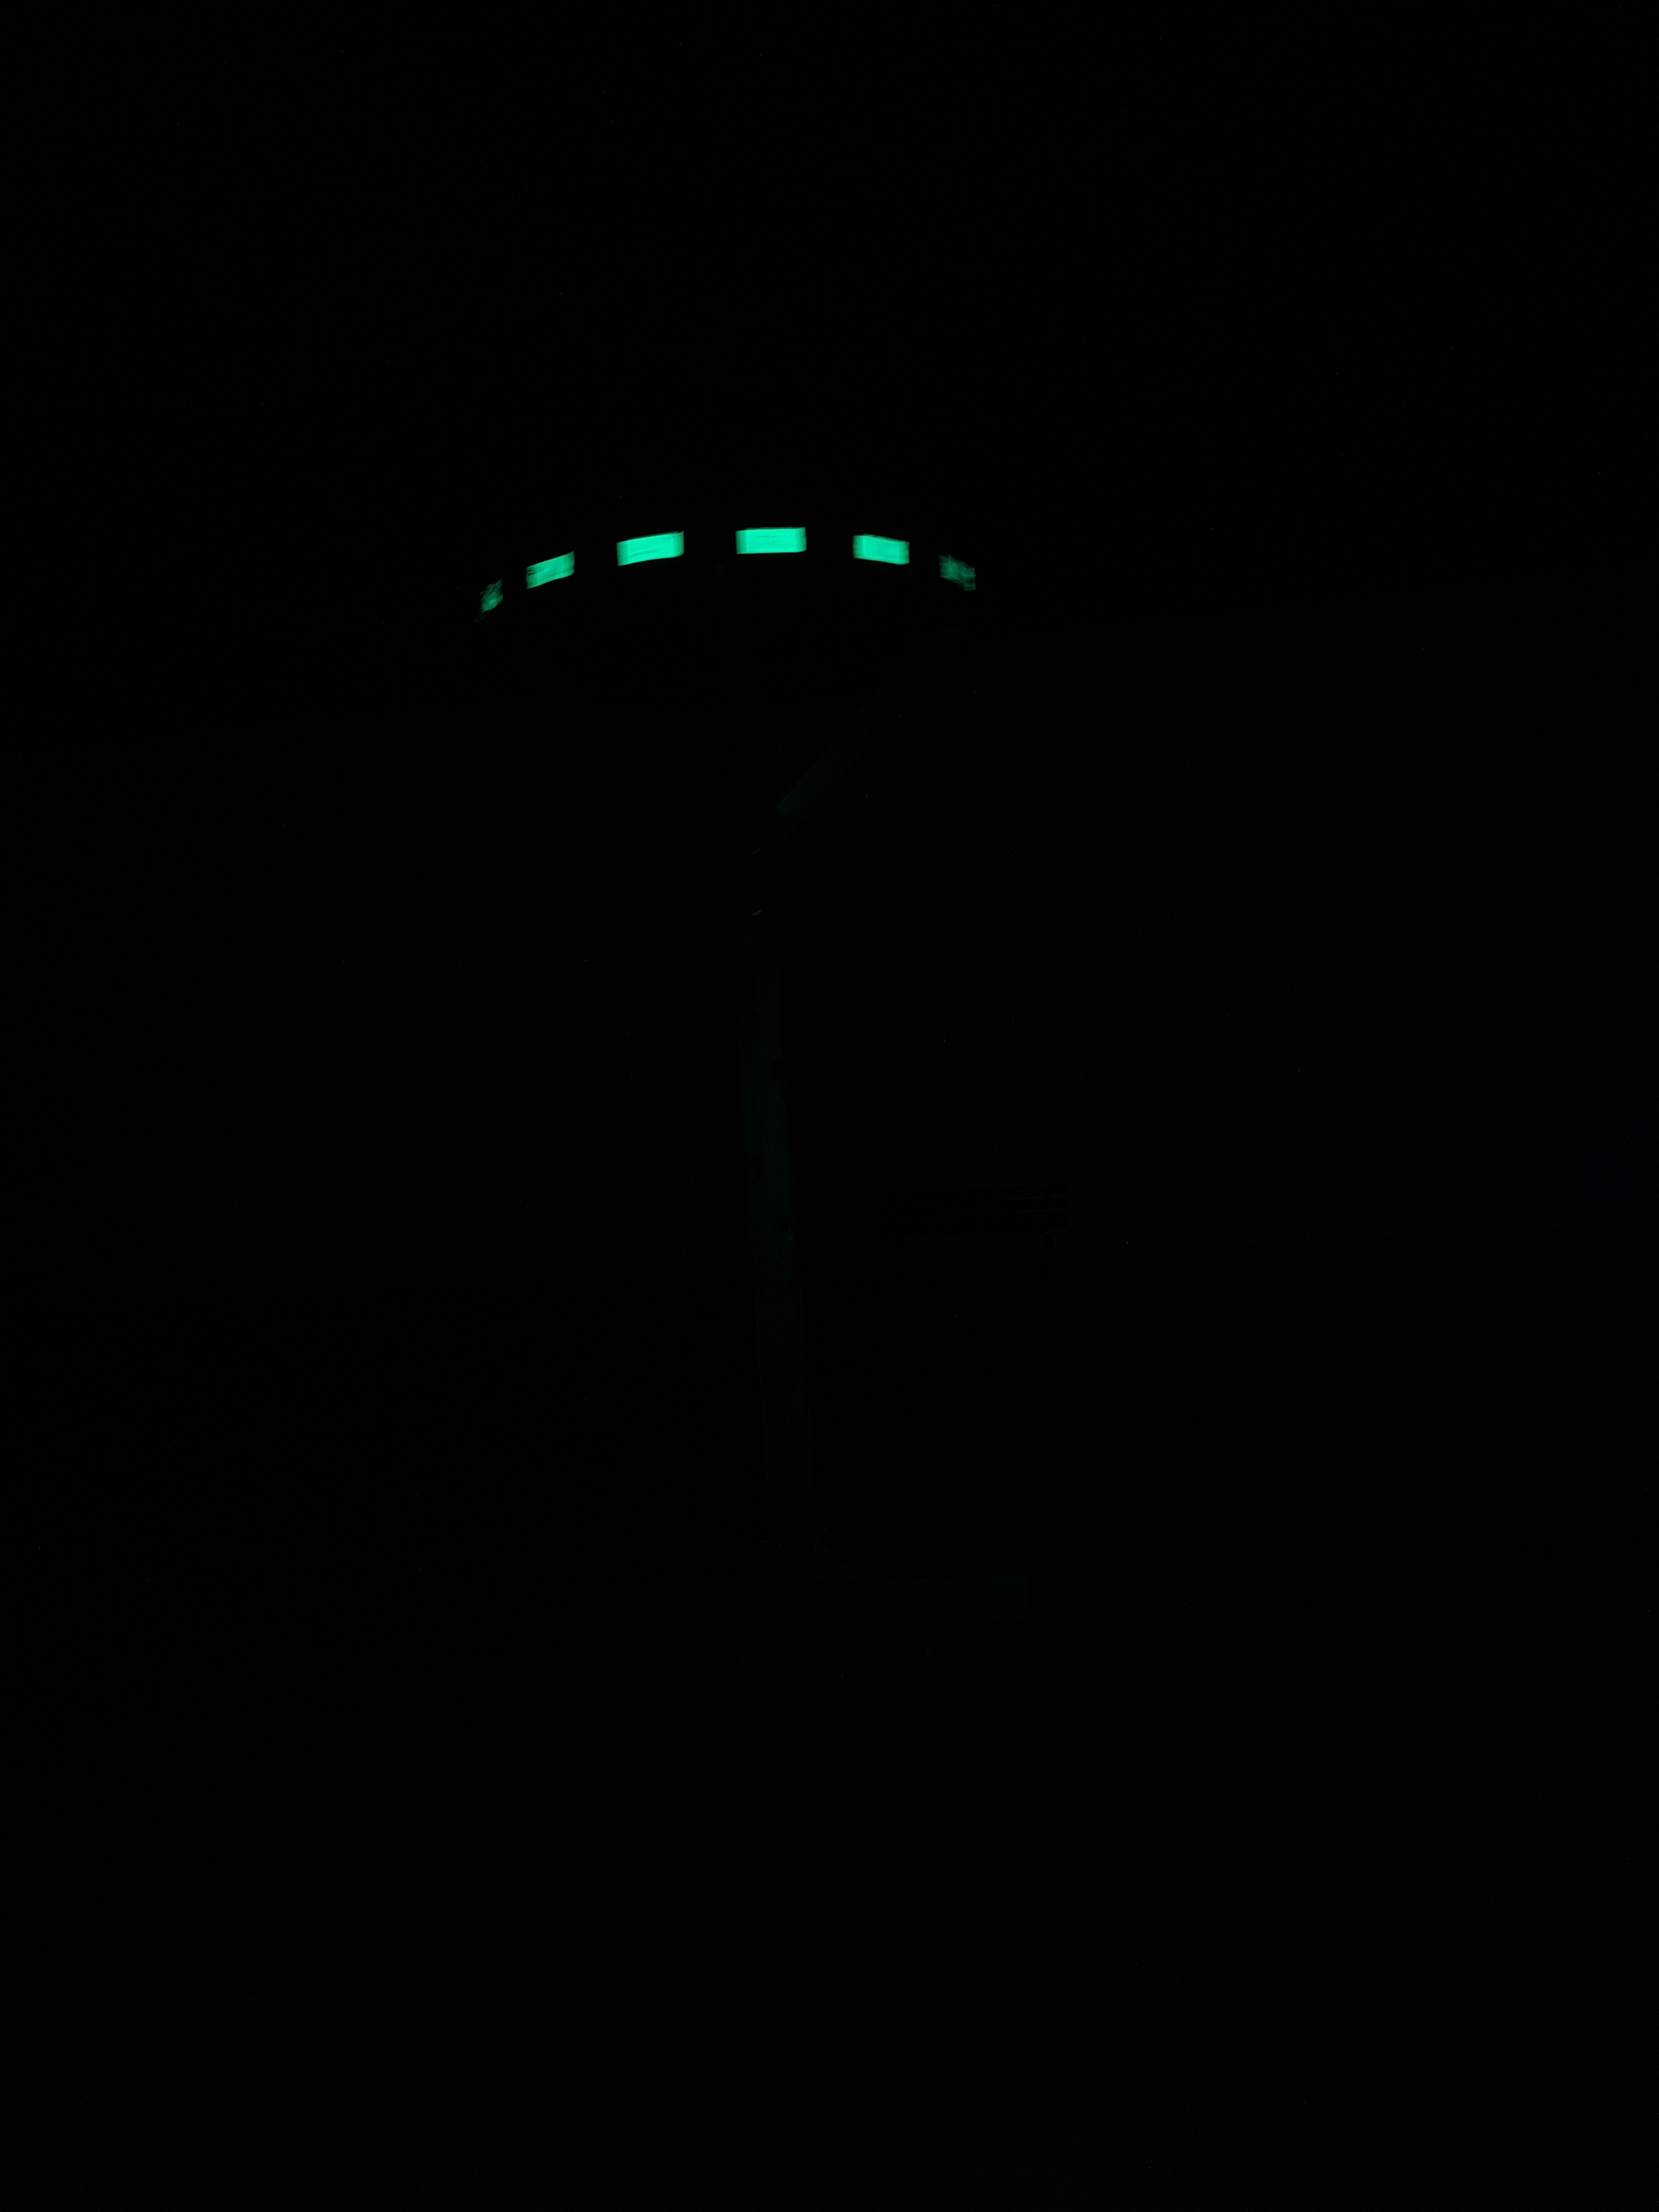hoop: (465, 519, 990, 613)
